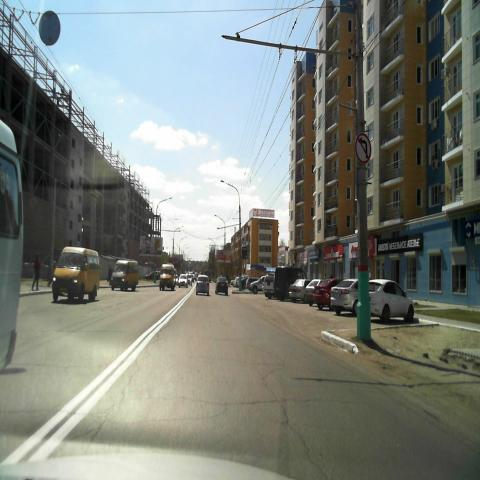3_18_2: (354, 132, 372, 164)
